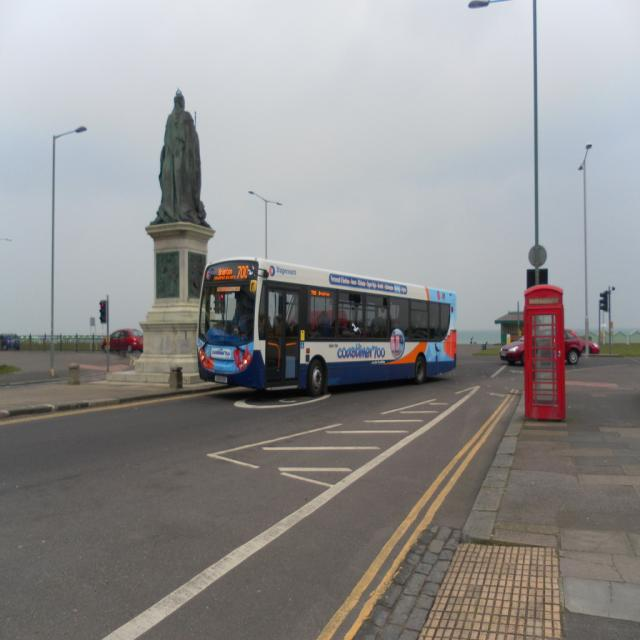car: (498, 328, 584, 366)
